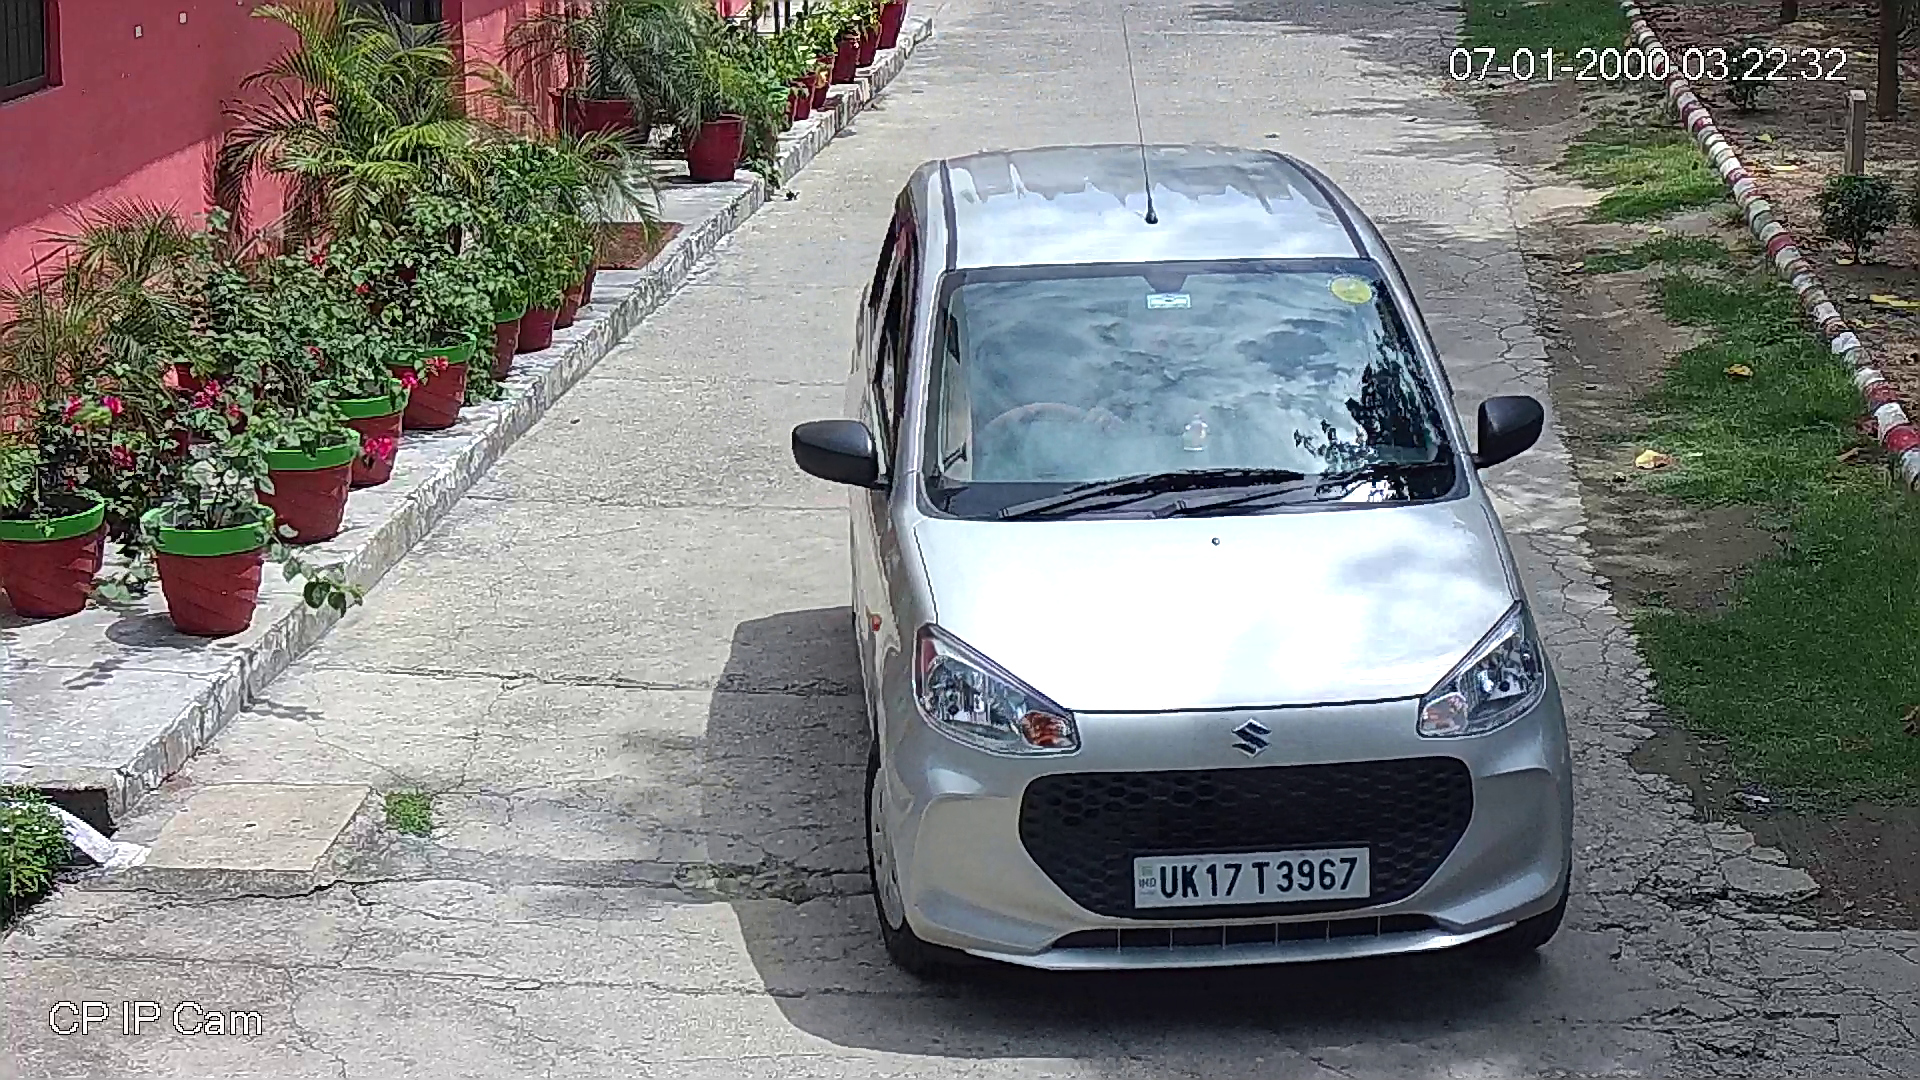plate: (1133, 844, 1371, 906)
